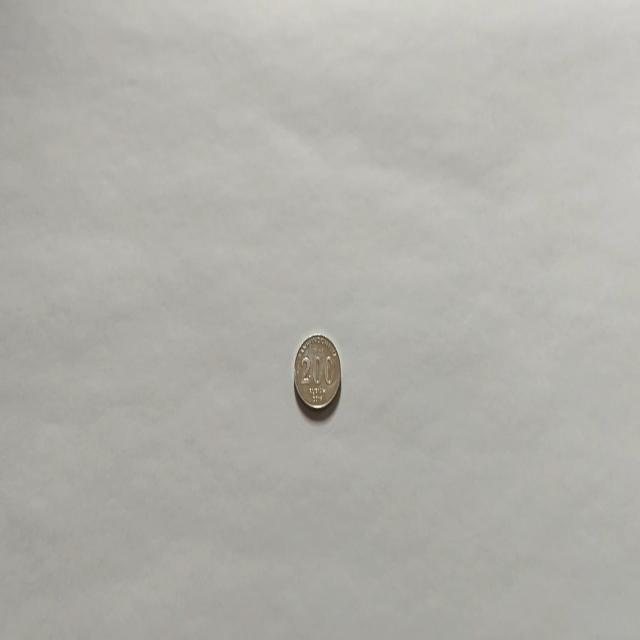dua ratus rupiah: (292, 332, 342, 412)
